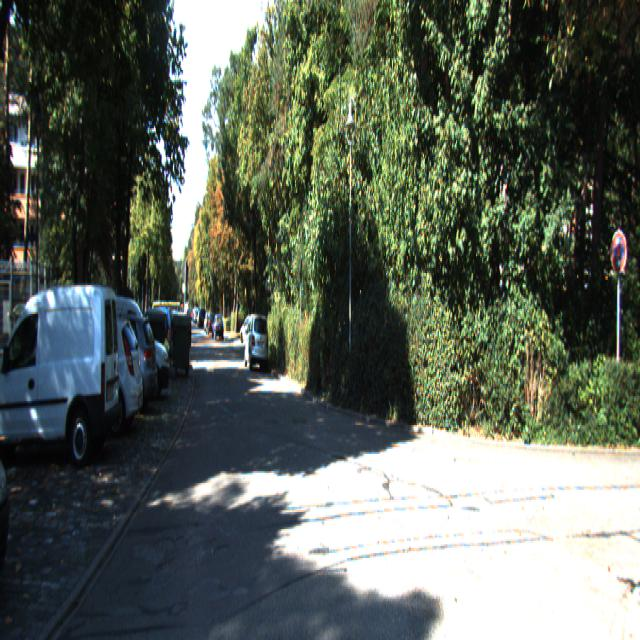Car: (0, 273, 122, 466), (29, 310, 146, 443), (68, 312, 159, 420), (94, 293, 171, 400), (245, 311, 270, 370)
